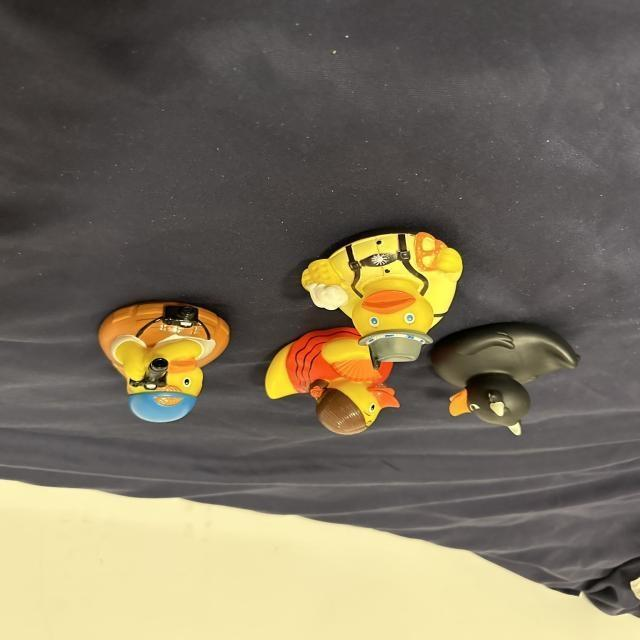rubber-duck: (430, 321, 576, 434), (301, 231, 461, 334), (98, 301, 227, 421), (265, 326, 397, 433)
